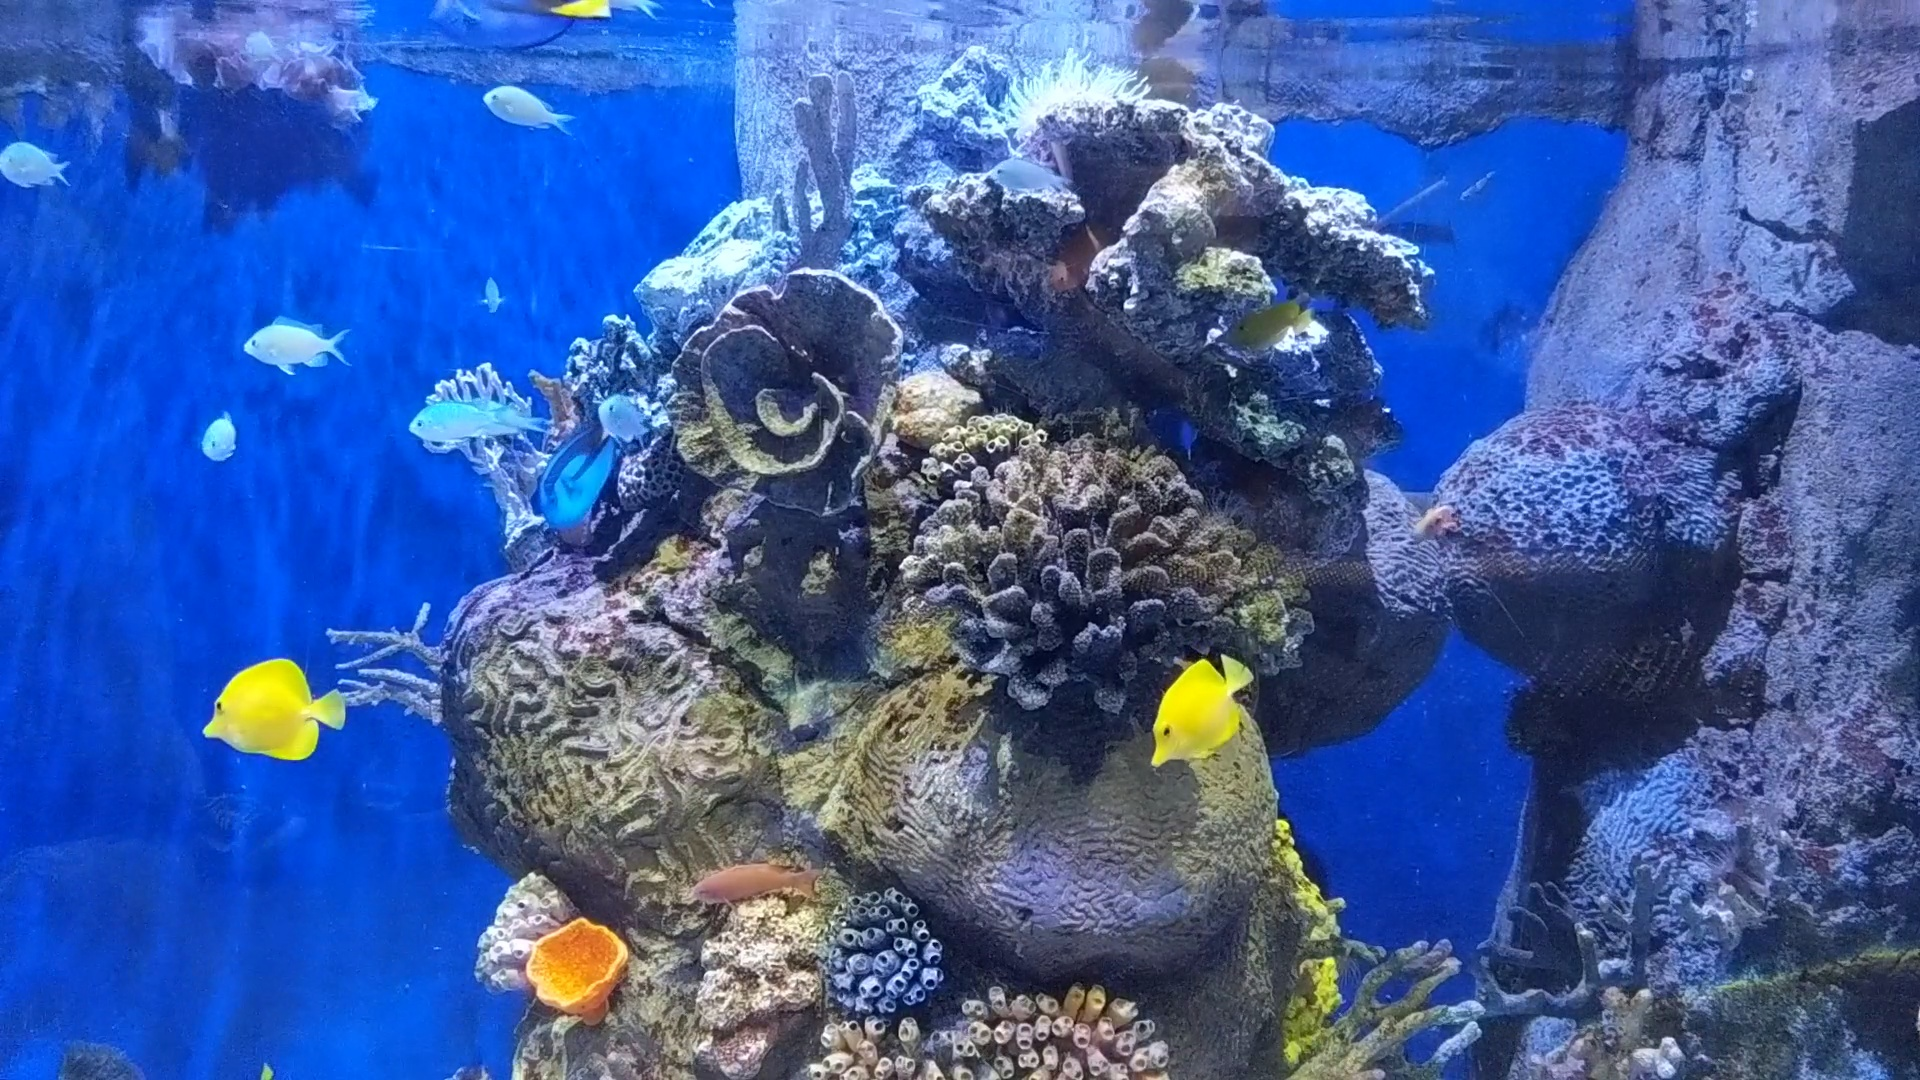blue tang surgeonfish: (512, 382, 638, 526)
damselfish: (240, 318, 348, 396), (404, 390, 527, 454), (476, 76, 578, 145), (965, 146, 1081, 199), (0, 133, 73, 200), (592, 386, 659, 454)
saddle butterfly fish: (1109, 646, 1276, 775), (189, 658, 349, 766)
